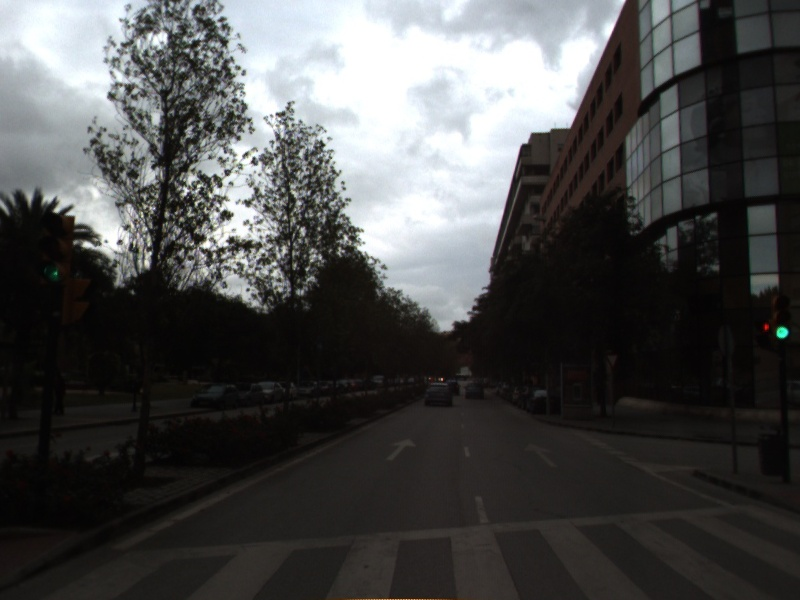STRAIGHT: (522, 441, 560, 469), (383, 437, 419, 462)
